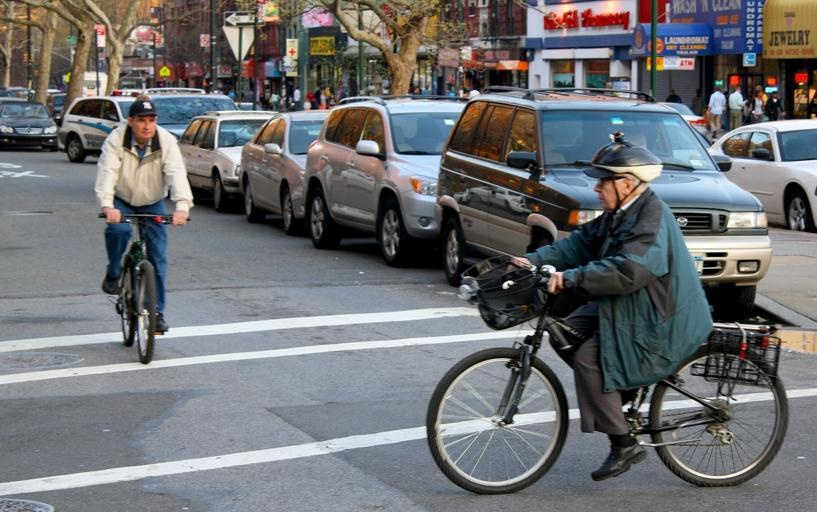non-vehicle: (419, 252, 794, 498), (94, 208, 192, 366)
